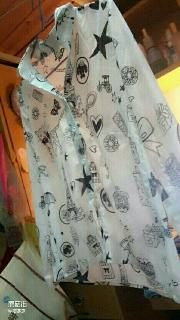long sleeve top: (16, 0, 180, 304)
